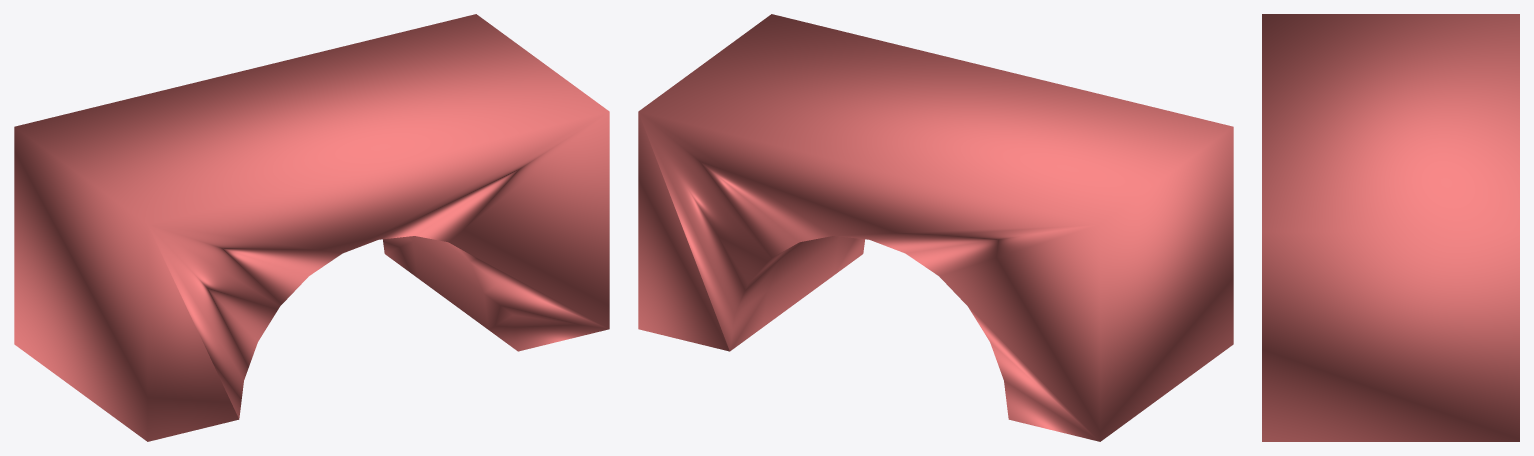
File: arch.obj
3 views of the same model, side by side, from view 1: azimuth 30°, elevation 25°; view 2: azimuth 150°, elevation 25°; view 3: azimuth 270°, elevation 25° (orthographic). The views are drawn at different scales.
Visible parts, largest first — view 1: Box001; view 2: Box001; view 3: Box001.
Part boxes in pixels (x1,y1,x2,y2): Box001: [14, 14, 609, 441]; Box001: [638, 14, 1233, 441]; Box001: [1262, 14, 1519, 441].
Bounding box in the file's own units: 200 × 90 × 100.
